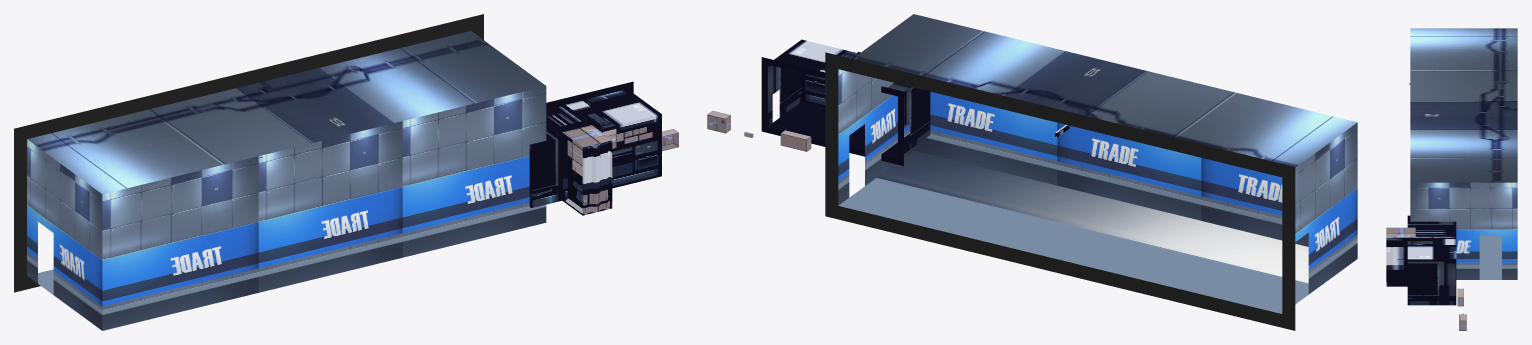
Rendered from trading.glb.
The picture shows the model from 3 angles, left to right: view 1: azimuth 30°, elevation 25°; view 2: azimuth 150°, elevation 25°; view 3: azimuth 270°, elevation 25°; orthographic projection. The views are drawn at different scales.
Visible parts, largest first — view 1: OBJ_room, OBJ_polySurface3, OBJ_polySurface2; view 2: OBJ_room, OBJ_polySurface3, OBJ_polySurface1; view 3: OBJ_room, OBJ_polySurface3, OBJ_polySurface2, OBJ_polySurface5, OBJ_polySurface1.
Part boxes in pixels (x1=…): OBJ_room: x1=14, y1=14, x2=546, y2=330; OBJ_polySurface3: x1=529, y1=81, x2=661, y2=207; OBJ_polySurface2: x1=559, y1=118, x2=612, y2=215; OBJ_room: x1=825, y1=14, x2=1357, y2=330; OBJ_polySurface3: x1=761, y1=39, x2=930, y2=165; OBJ_polySurface1: x1=780, y1=130, x2=811, y2=151; OBJ_room: x1=1409, y1=28, x2=1517, y2=279; OBJ_polySurface3: x1=1407, y1=215, x2=1456, y2=305; OBJ_polySurface2: x1=1386, y1=227, x2=1415, y2=286; OBJ_polySurface5: x1=1459, y1=314, x2=1466, y2=330; OBJ_polySurface1: x1=1457, y1=288, x2=1463, y2=306.
Size of the model in its own units: 10.51 by 2.64 by 2.69.
Materials: 7 (7 with a texture image).
